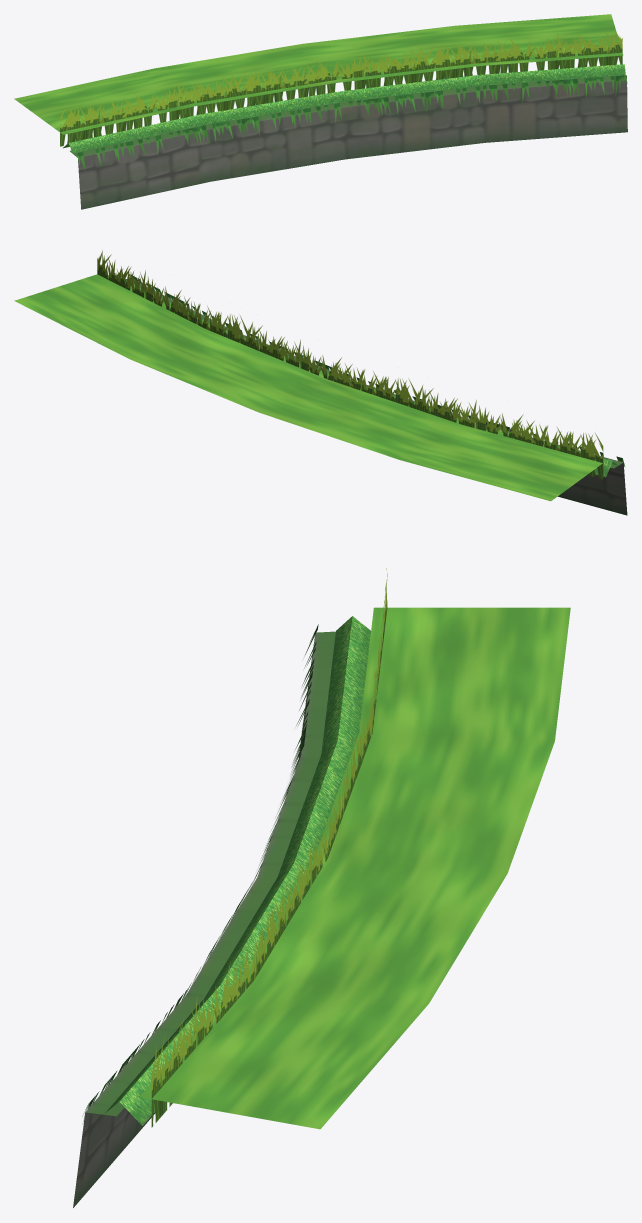
File: terrace_concave_young_far.glb
The picture shows the model from 3 angles, top to bottom: view 1: azimuth 30°, elevation 25°; view 2: azimuth 150°, elevation 25°; view 3: azimuth 270°, elevation 25°; orthographic projection. The views are drawn at different scales.
Visible parts, largest first — view 1: terrace_concave_young_far_cards, terrace_concave_young_far_wall, terrace_concave_young_far_dike; view 2: terrace_concave_young_far_cards, terrace_concave_young_far_wall; view 3: terrace_concave_young_far_cards, terrace_concave_young_far_wall, terrace_concave_young_far_dike.
Part boxes in pixels (x1,y1,x2,y2): terrace_concave_young_far_cards: [14, 14, 627, 170]; terrace_concave_young_far_wall: [70, 75, 627, 209]; terrace_concave_young_far_dike: [63, 64, 625, 153]; terrace_concave_young_far_cards: [14, 250, 624, 501]; terrace_concave_young_far_wall: [125, 279, 627, 515]; terrace_concave_young_far_cards: [82, 568, 570, 1129]; terrace_concave_young_far_wall: [73, 631, 335, 1207]; terrace_concave_young_far_dike: [104, 616, 370, 1125].
Bounding box in the file's own units: 12.73 × 2.13 × 5.15.
3 materials, 3 textured.
